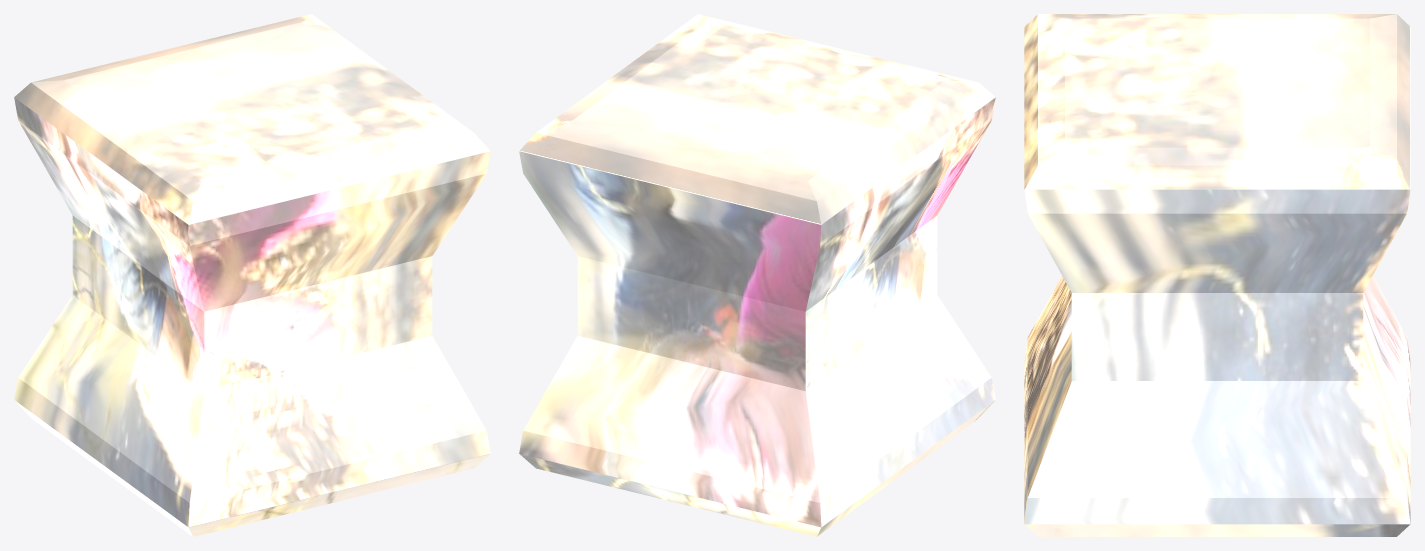
File: cubeTest.glb
3 renders of one model, left to right at view 1: azimuth 30°, elevation 25°; view 2: azimuth 150°, elevation 25°; view 3: azimuth 270°, elevation 25°, orthographic. The views are drawn at different scales.
Visible parts, largest first — view 1: Cube; view 2: Cube; view 3: Cube.
Boxes of the visible parts, x1,y1,x2,y2 form: Cube: (14,14,490,536); Cube: (519,14,995,536); Cube: (1024,14,1410,536).
Bounding box in the file's own units: 1.82 × 2 × 1.82.
